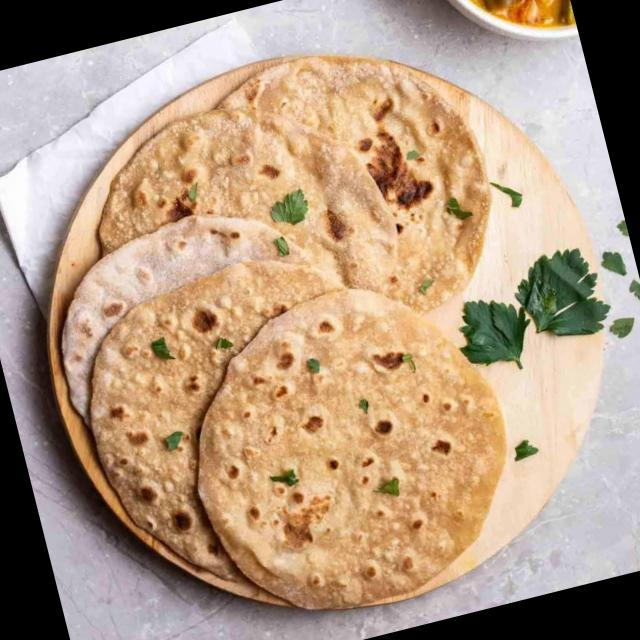roti: (197, 289, 507, 609), (92, 261, 349, 583), (214, 54, 489, 313), (99, 108, 393, 293), (64, 217, 315, 429)
